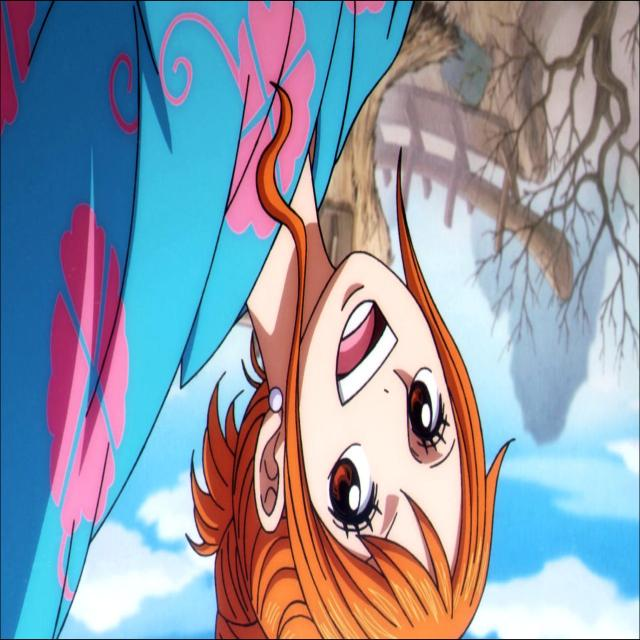Nami: (11, 0, 534, 636)
